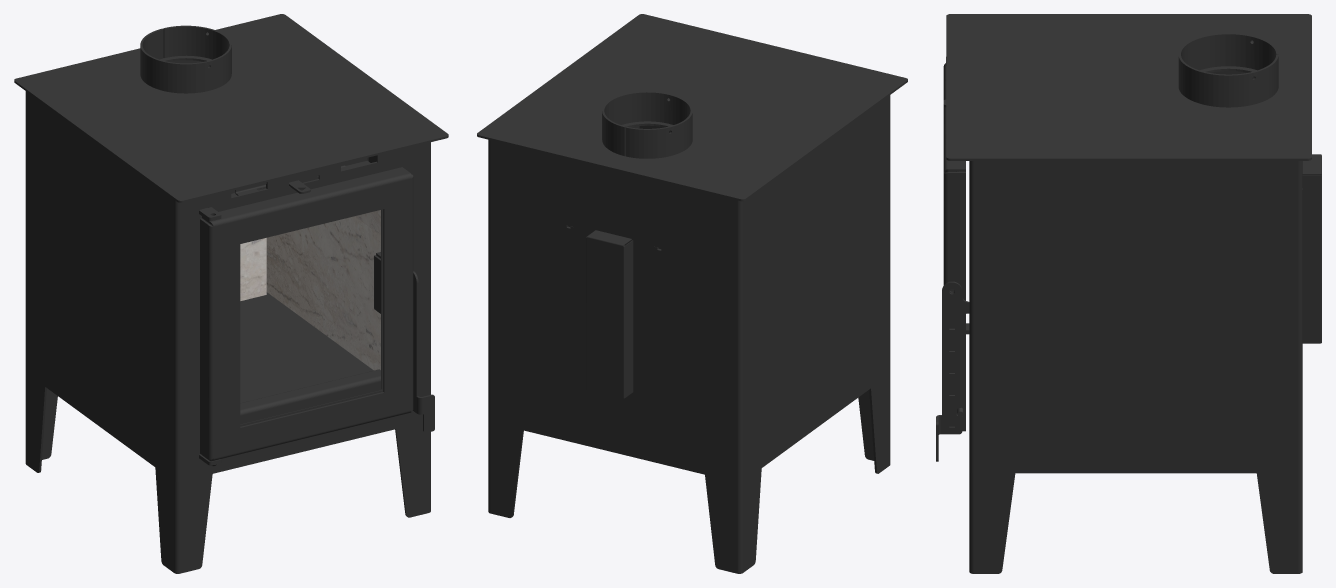
3 renders of one model, left to right at view 1: azimuth 30°, elevation 25°; view 2: azimuth 150°, elevation 25°; view 3: azimuth 270°, elevation 25°, orthographic. The views are drawn at different scales.
Parts seen in each view (by area): view 1: _C-Object 0#2 (Loose Mesh), G-Object, G-Object.001, _(Loose Entity), G-Object.002; view 2: _C-Object 0#2 (Loose Mesh), G-Object; view 3: _C-Object 0#2 (Loose Mesh), G-Object, G-Object.001, G-Object.002.
Boxes of the visible parts, bbox=[...] form: _C-Object 0#2 (Loose Mesh): bbox=[25, 25, 430, 573]; G-Object: bbox=[14, 14, 448, 202]; G-Object.001: bbox=[199, 167, 413, 465]; _(Loose Entity): bbox=[266, 210, 380, 370]; G-Object.002: bbox=[413, 271, 434, 432]; _C-Object 0#2 (Loose Mesh): bbox=[488, 91, 890, 573]; G-Object: bbox=[477, 14, 907, 201]; _C-Object 0#2 (Loose Mesh): bbox=[943, 33, 1321, 573]; G-Object: bbox=[946, 14, 1311, 160]; G-Object.001: bbox=[943, 63, 969, 431]; G-Object.002: bbox=[936, 281, 969, 461].
Size of the model in its own units: 0.37 by 0.5377 by 0.4168.
2 materials, 1 textured.
